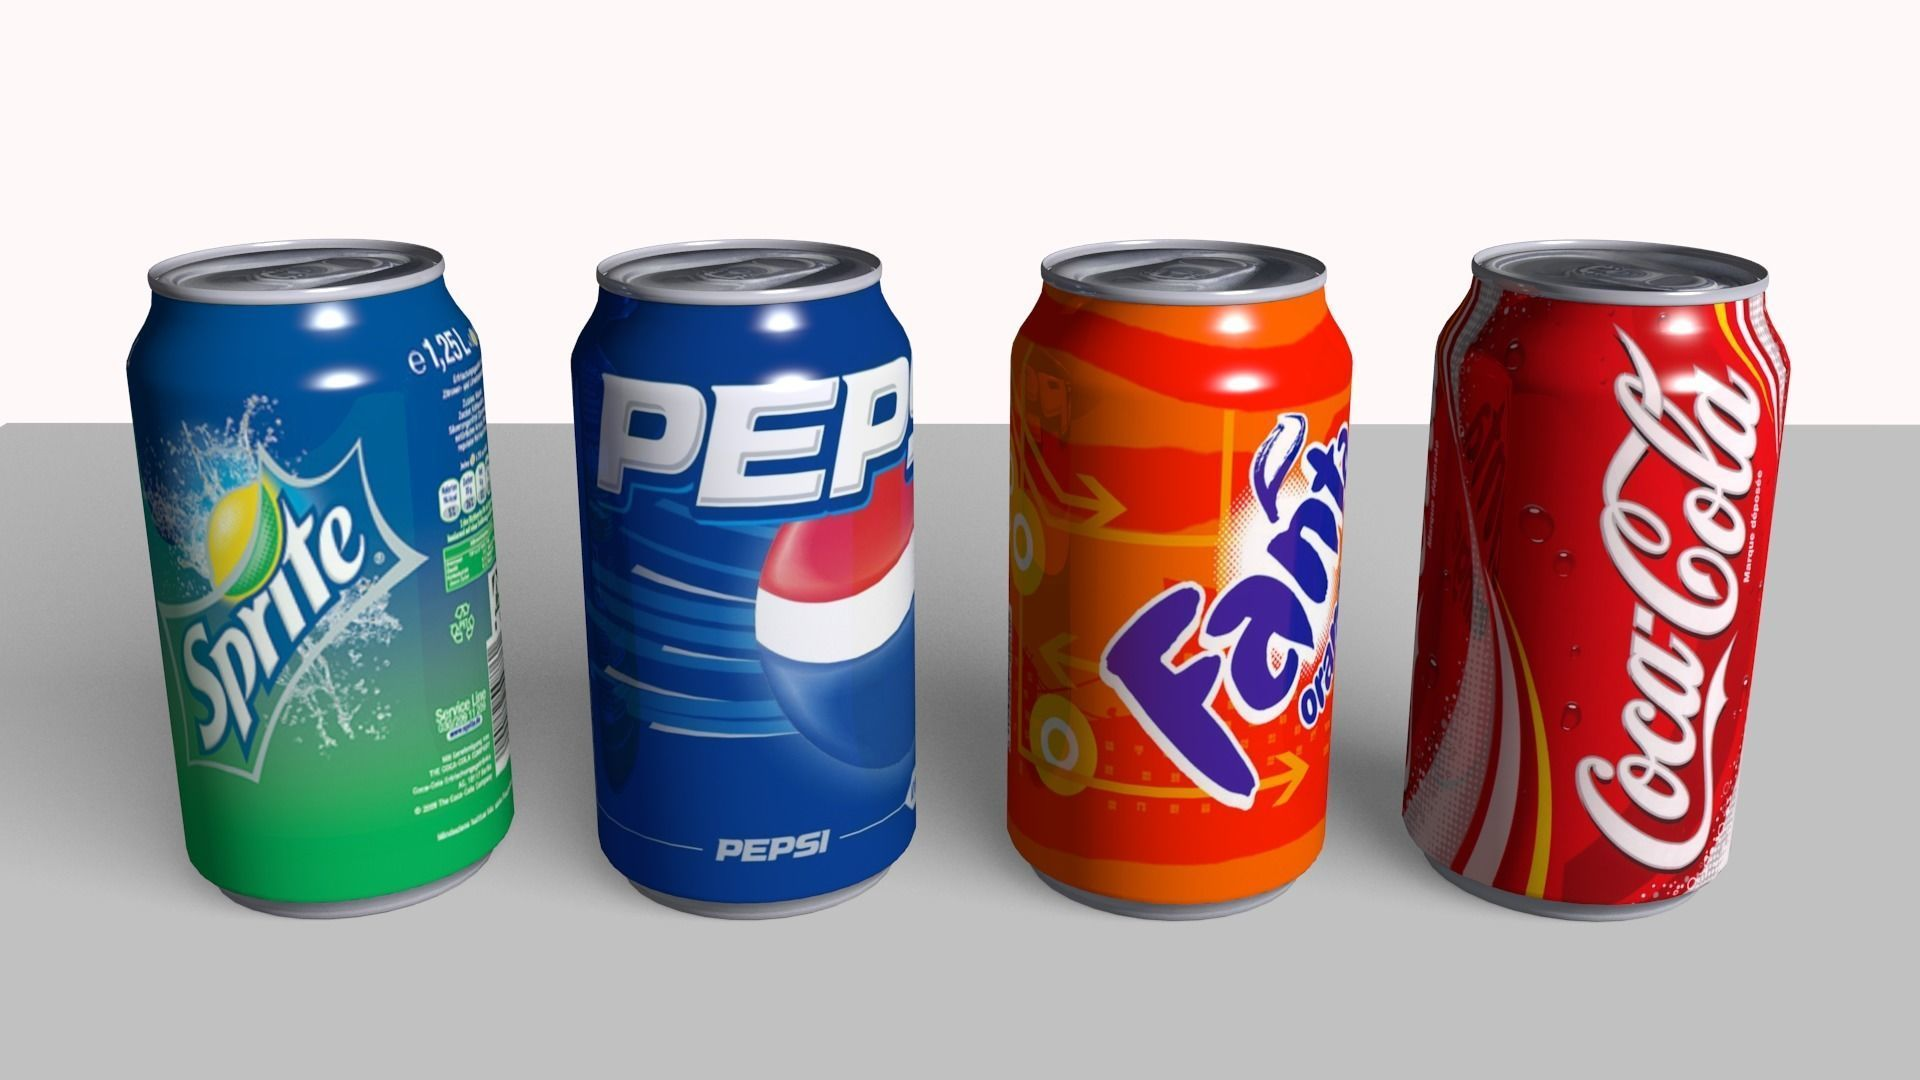Coca-Cola: (1411, 251, 1811, 887)
Fanta: (994, 266, 1394, 903)
Pepsi: (545, 262, 945, 899)
Sprite: (115, 266, 516, 905)
